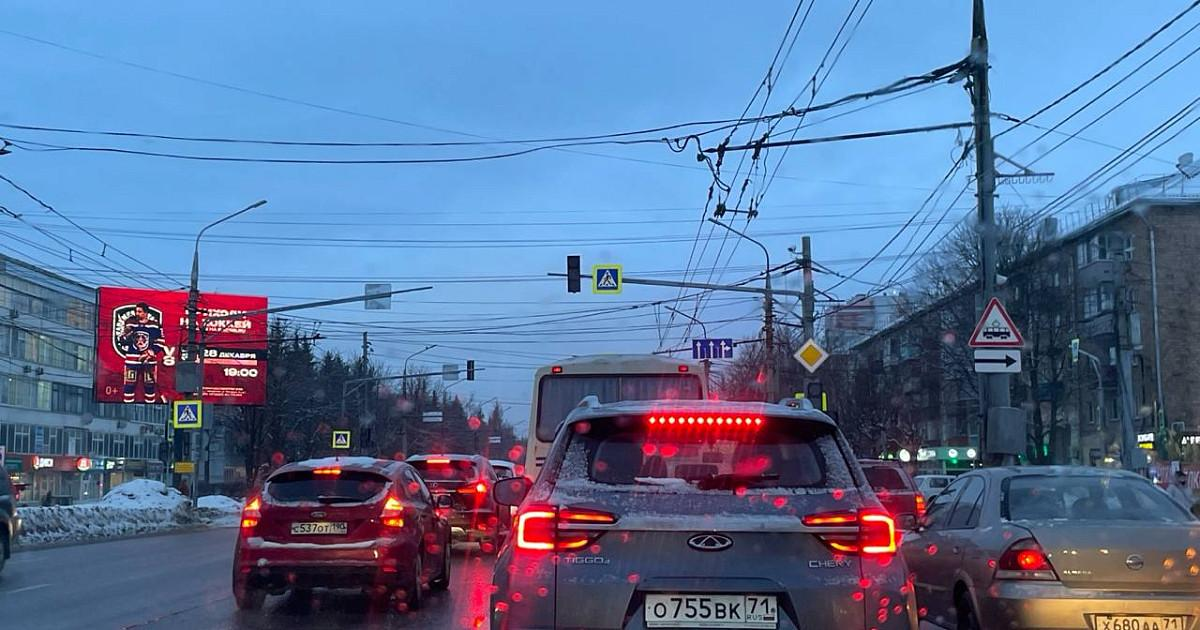off traffic light: (567, 255, 581, 293)
road_sign: (968, 298, 1026, 346), (794, 338, 829, 373), (974, 350, 1022, 372), (693, 338, 733, 359), (593, 264, 621, 294), (173, 401, 201, 429), (332, 432, 350, 448)
